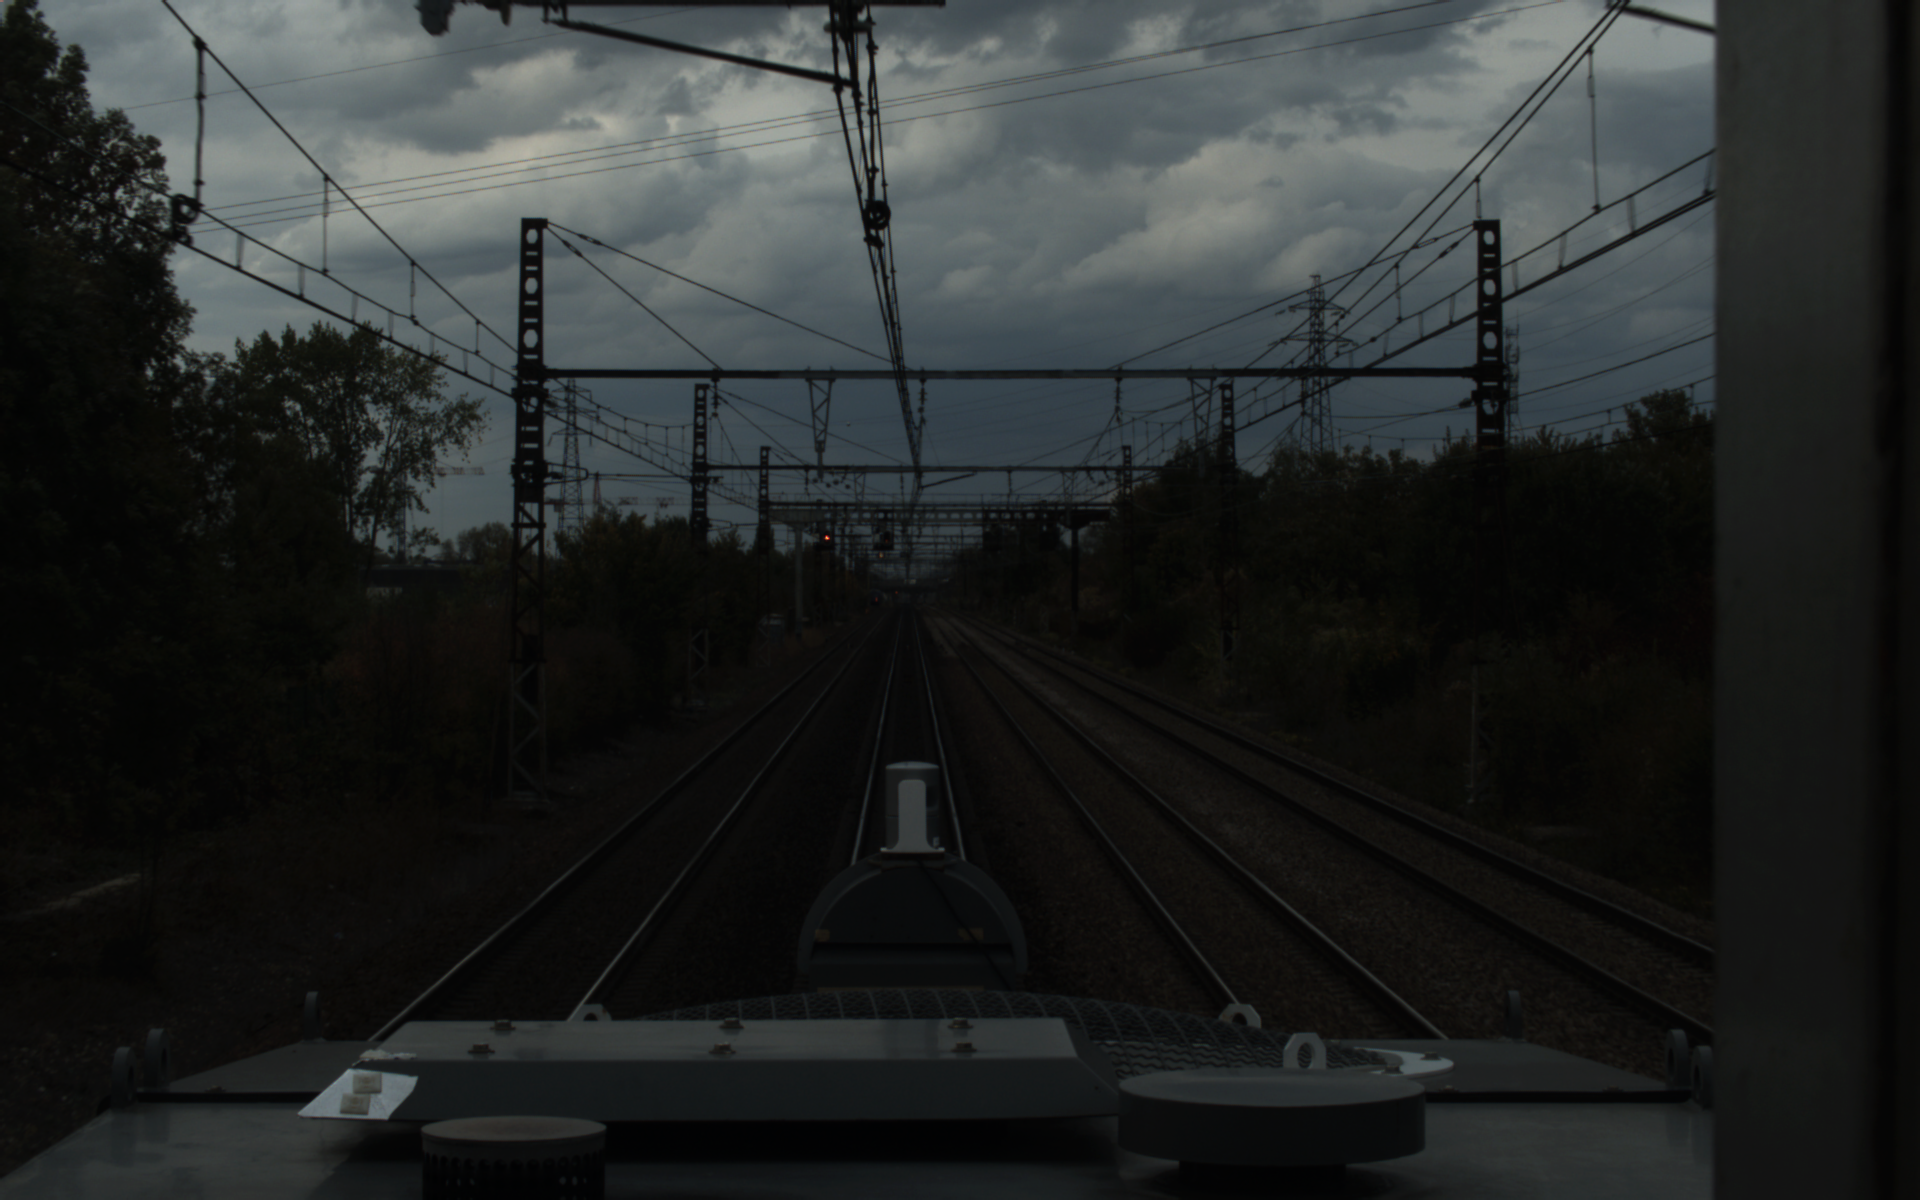Blinking: (879, 529, 893, 547)
Fixed: (818, 527, 835, 547)
